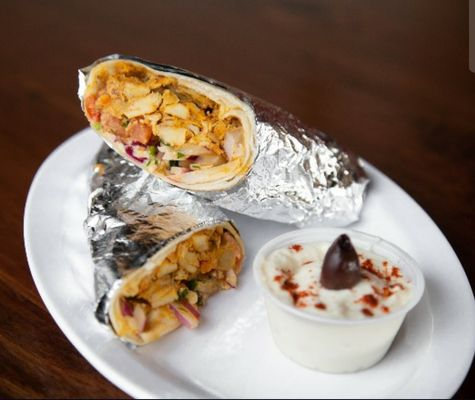sushi: (253, 229, 426, 375), (79, 57, 258, 194)
